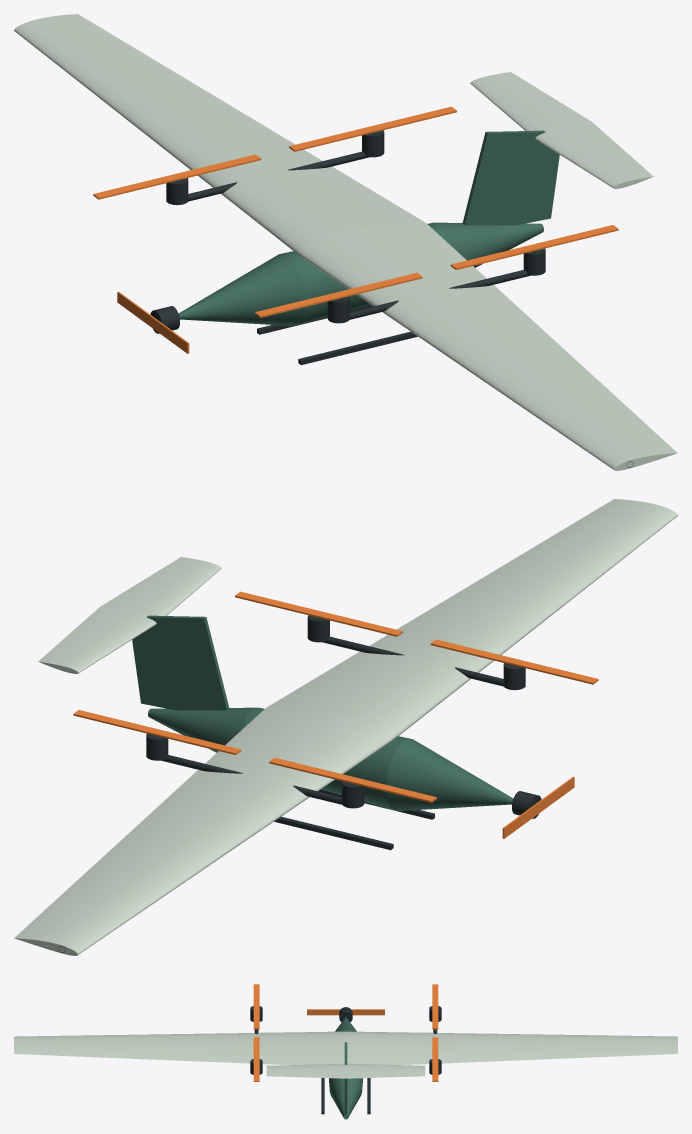
3 renders of one model, top to bottom at view 1: azimuth 30°, elevation 25°; view 2: azimuth 150°, elevation 25°; view 3: azimuth 270°, elevation 25°, orthographic. The views are drawn at different scales.
Visible parts, largest first — view 1: wing-1, wing1, fuselage, fin, tail-1, tail1, prop_-1_700.0, prop_1_210.0, prop_-1_210.0, prop_1_700.0, cruise_prop, boom-1 (+2 smaller); view 2: wing1, wing-1, fuselage, fin, tail1, tail-1, prop_1_700.0, prop_-1_210.0, prop_-1_700.0, prop_1_210.0, cruise_prop, boom-1 (+2 smaller); view 3: wing-1, wing1, fuselage, tail-1, tail1, cruise_prop, prop_-1_210.0, prop_1_210.0, prop_-1_700.0, prop_1_700.0, fin.
Boxes of the visible parts, x1,y1,x2,y2 form: wing-1: (298,223,677,470); wing1: (14,14,425,253); fuselage: (178,222,543,325); fin: (462,130,559,225); tail-1: (535,121,653,188); tail1: (470,72,591,131); prop_-1_700.0: (450,225,618,269); prop_1_210.0: (93,154,261,199); prop_-1_210.0: (255,272,422,317); prop_1_700.0: (289,106,456,151); cruise_prop: (117,291,189,353); boom-1: (349,269,531,319); wing1: (14,708,393,955); wing-1: (266,499,677,738); fuselage: (148,707,513,810); fin: (132,615,229,710); tail1: (38,606,156,673); tail-1: (100,557,221,616); prop_1_700.0: (73,710,241,754); prop_-1_210.0: (430,639,598,684); prop_-1_700.0: (235,591,402,636); prop_1_210.0: (269,757,436,802); cruise_prop: (502,776,574,838); boom-1: (322,636,503,686); wing-1: (14,1031,345,1065); wing1: (346,1031,677,1065); fuselage: (328,1017,363,1119); tail-1: (266,1063,345,1078); tail1: (346,1063,425,1078); cruise_prop: (307,1009,384,1015); prop_-1_210.0: (253,984,259,1029); prop_1_210.0: (432,984,438,1029); prop_-1_700.0: (253,1037,259,1081); prop_1_700.0: (432,1037,438,1081); fin: (344,1042,347,1114).
Size of the model in its own units: 1099 by 396 by 2600.
